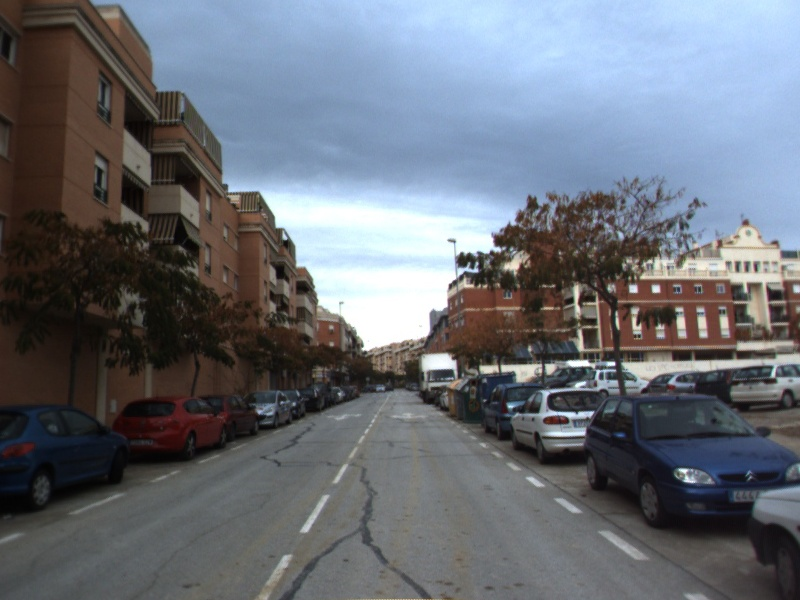STRAIGHT_LEFT_RIGHT: (387, 410, 430, 421)
